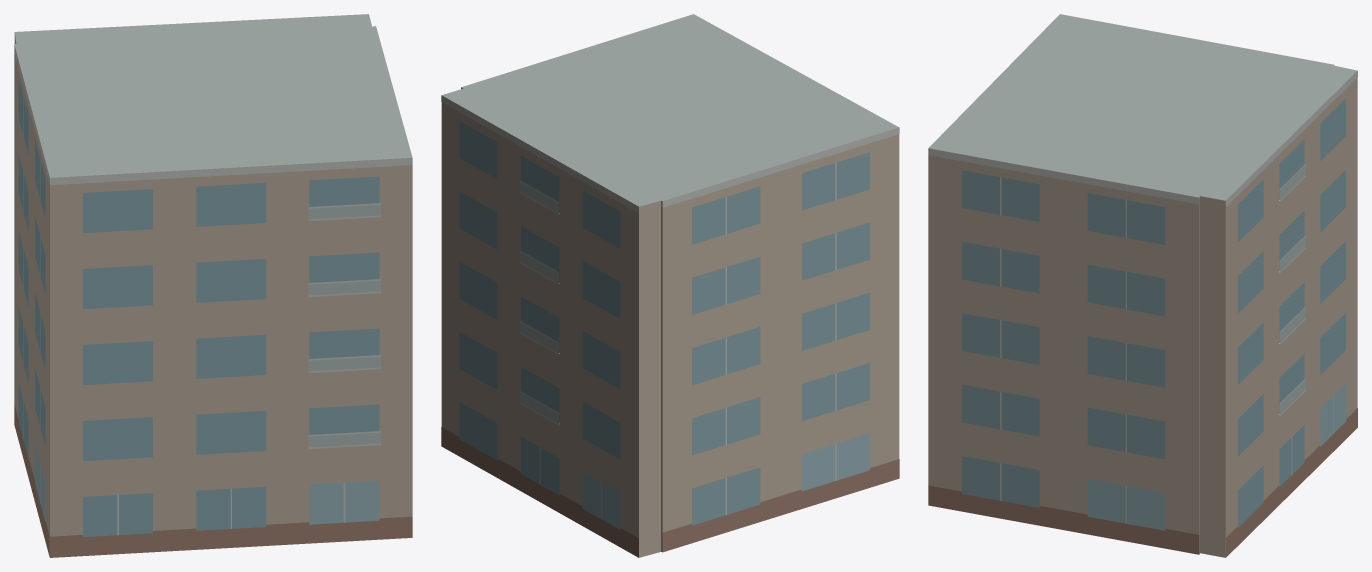
The model's file is survey-upis-32533314.glb.
3 renders of one model, left to right at view 1: azimuth 30°, elevation 25°; view 2: azimuth 150°, elevation 25°; view 3: azimuth 270°, elevation 25°, orthographic. The views are drawn at different scales.
Parts seen in each view (by area): view 1: survey-upis-32533314.tmp; view 2: survey-upis-32533314.tmp; view 3: survey-upis-32533314.tmp.
Boxes of the visible parts, left/top/right/bottom form: survey-upis-32533314.tmp: left=14, top=14, right=412, bottom=557; survey-upis-32533314.tmp: left=441, top=14, right=899, bottom=557; survey-upis-32533314.tmp: left=928, top=14, right=1357, bottom=557.
Bounding box in the file's own units: 14.32 × 12.76 × 13.92.
